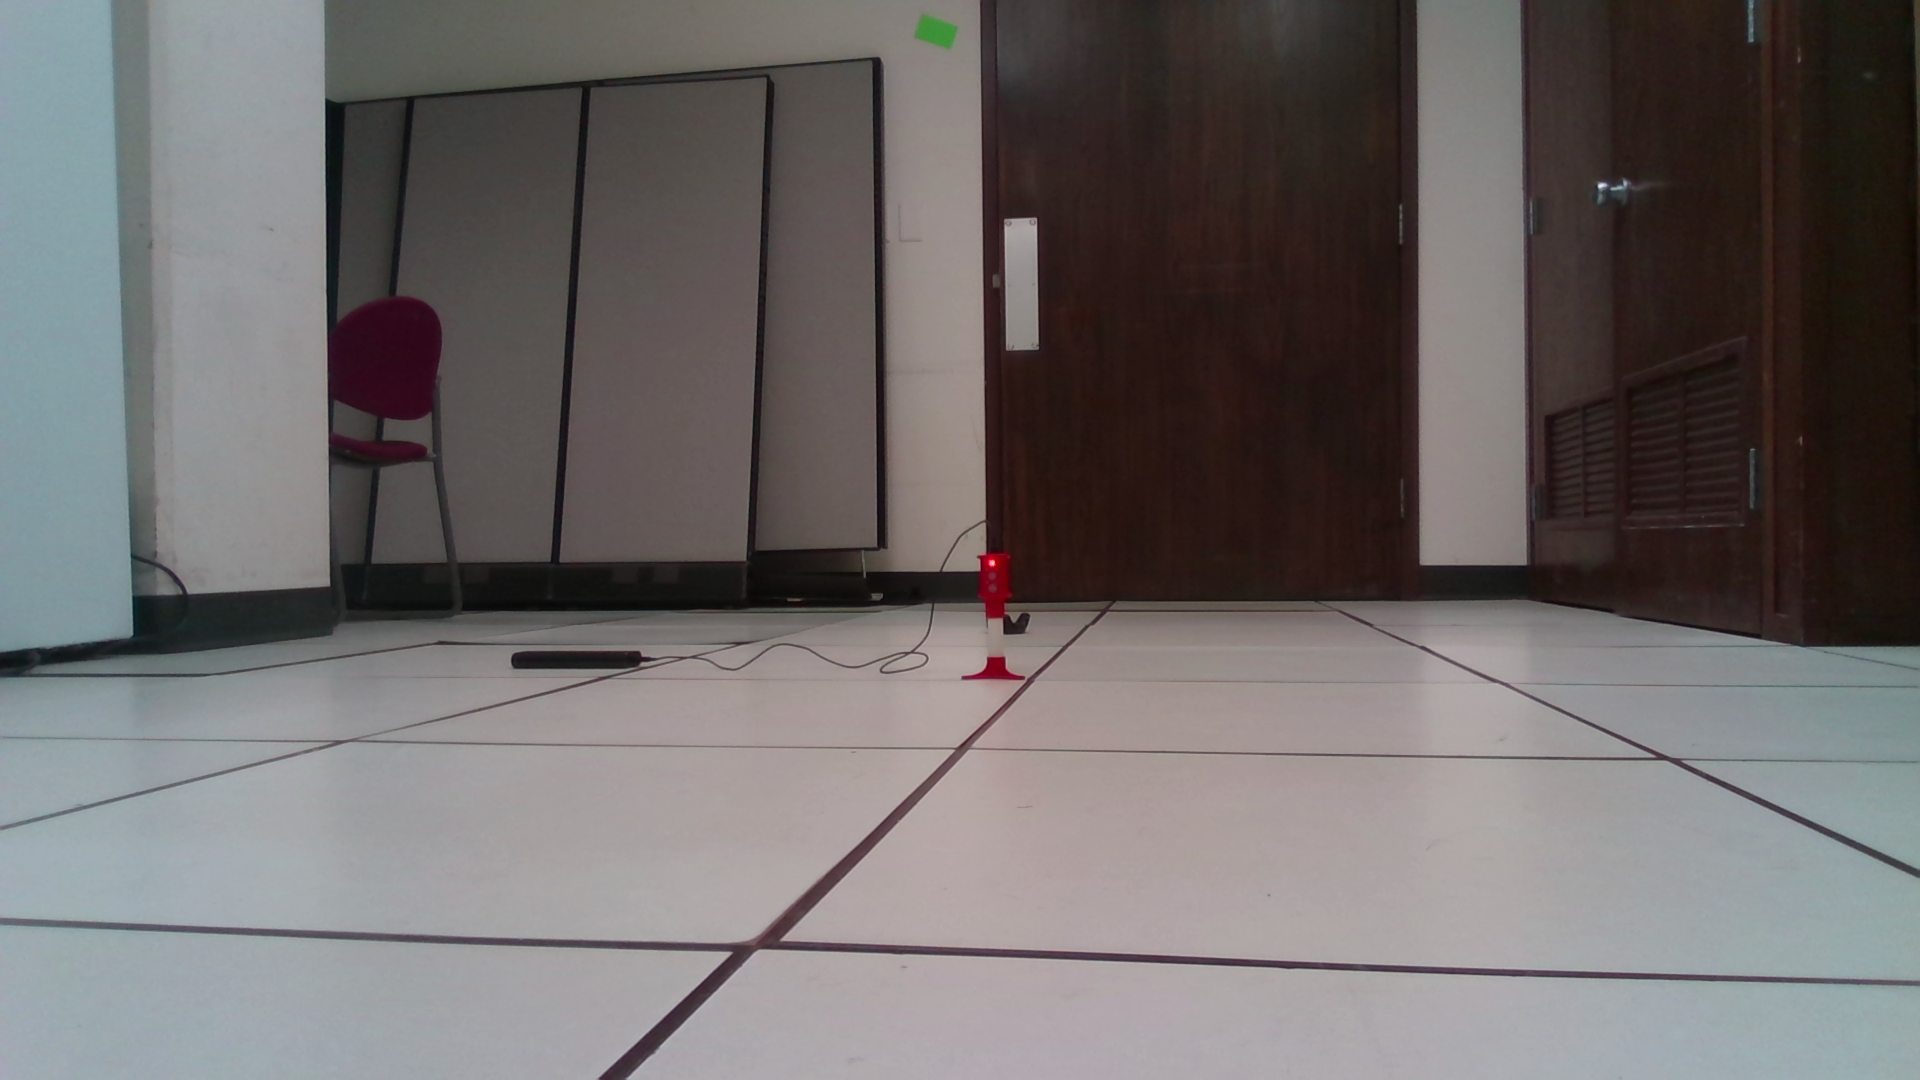stoplight: (980, 551, 1011, 621)
